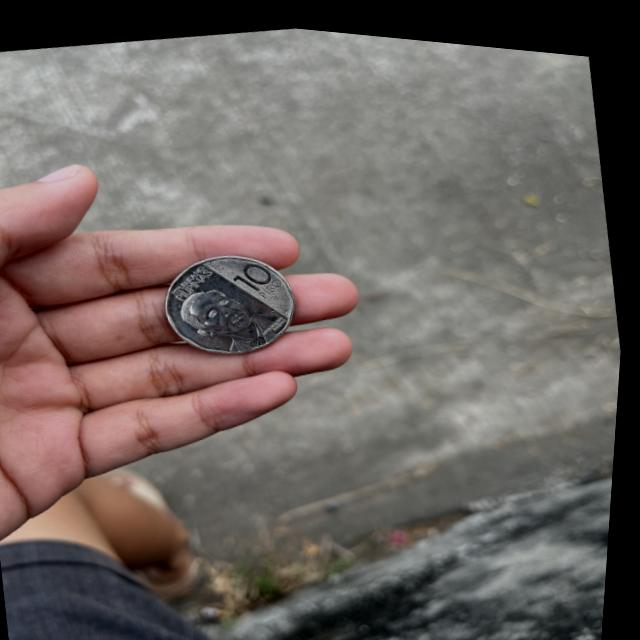10_New_Front: (228, 247, 288, 297)
